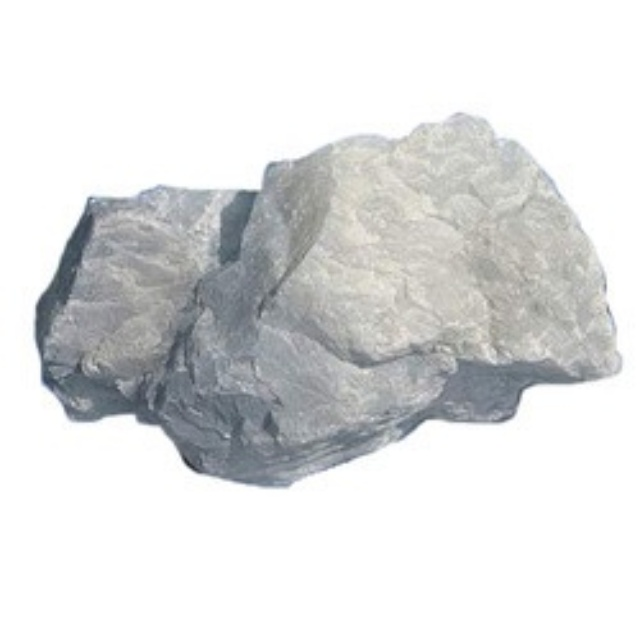obstacle: (36, 115, 617, 481)
